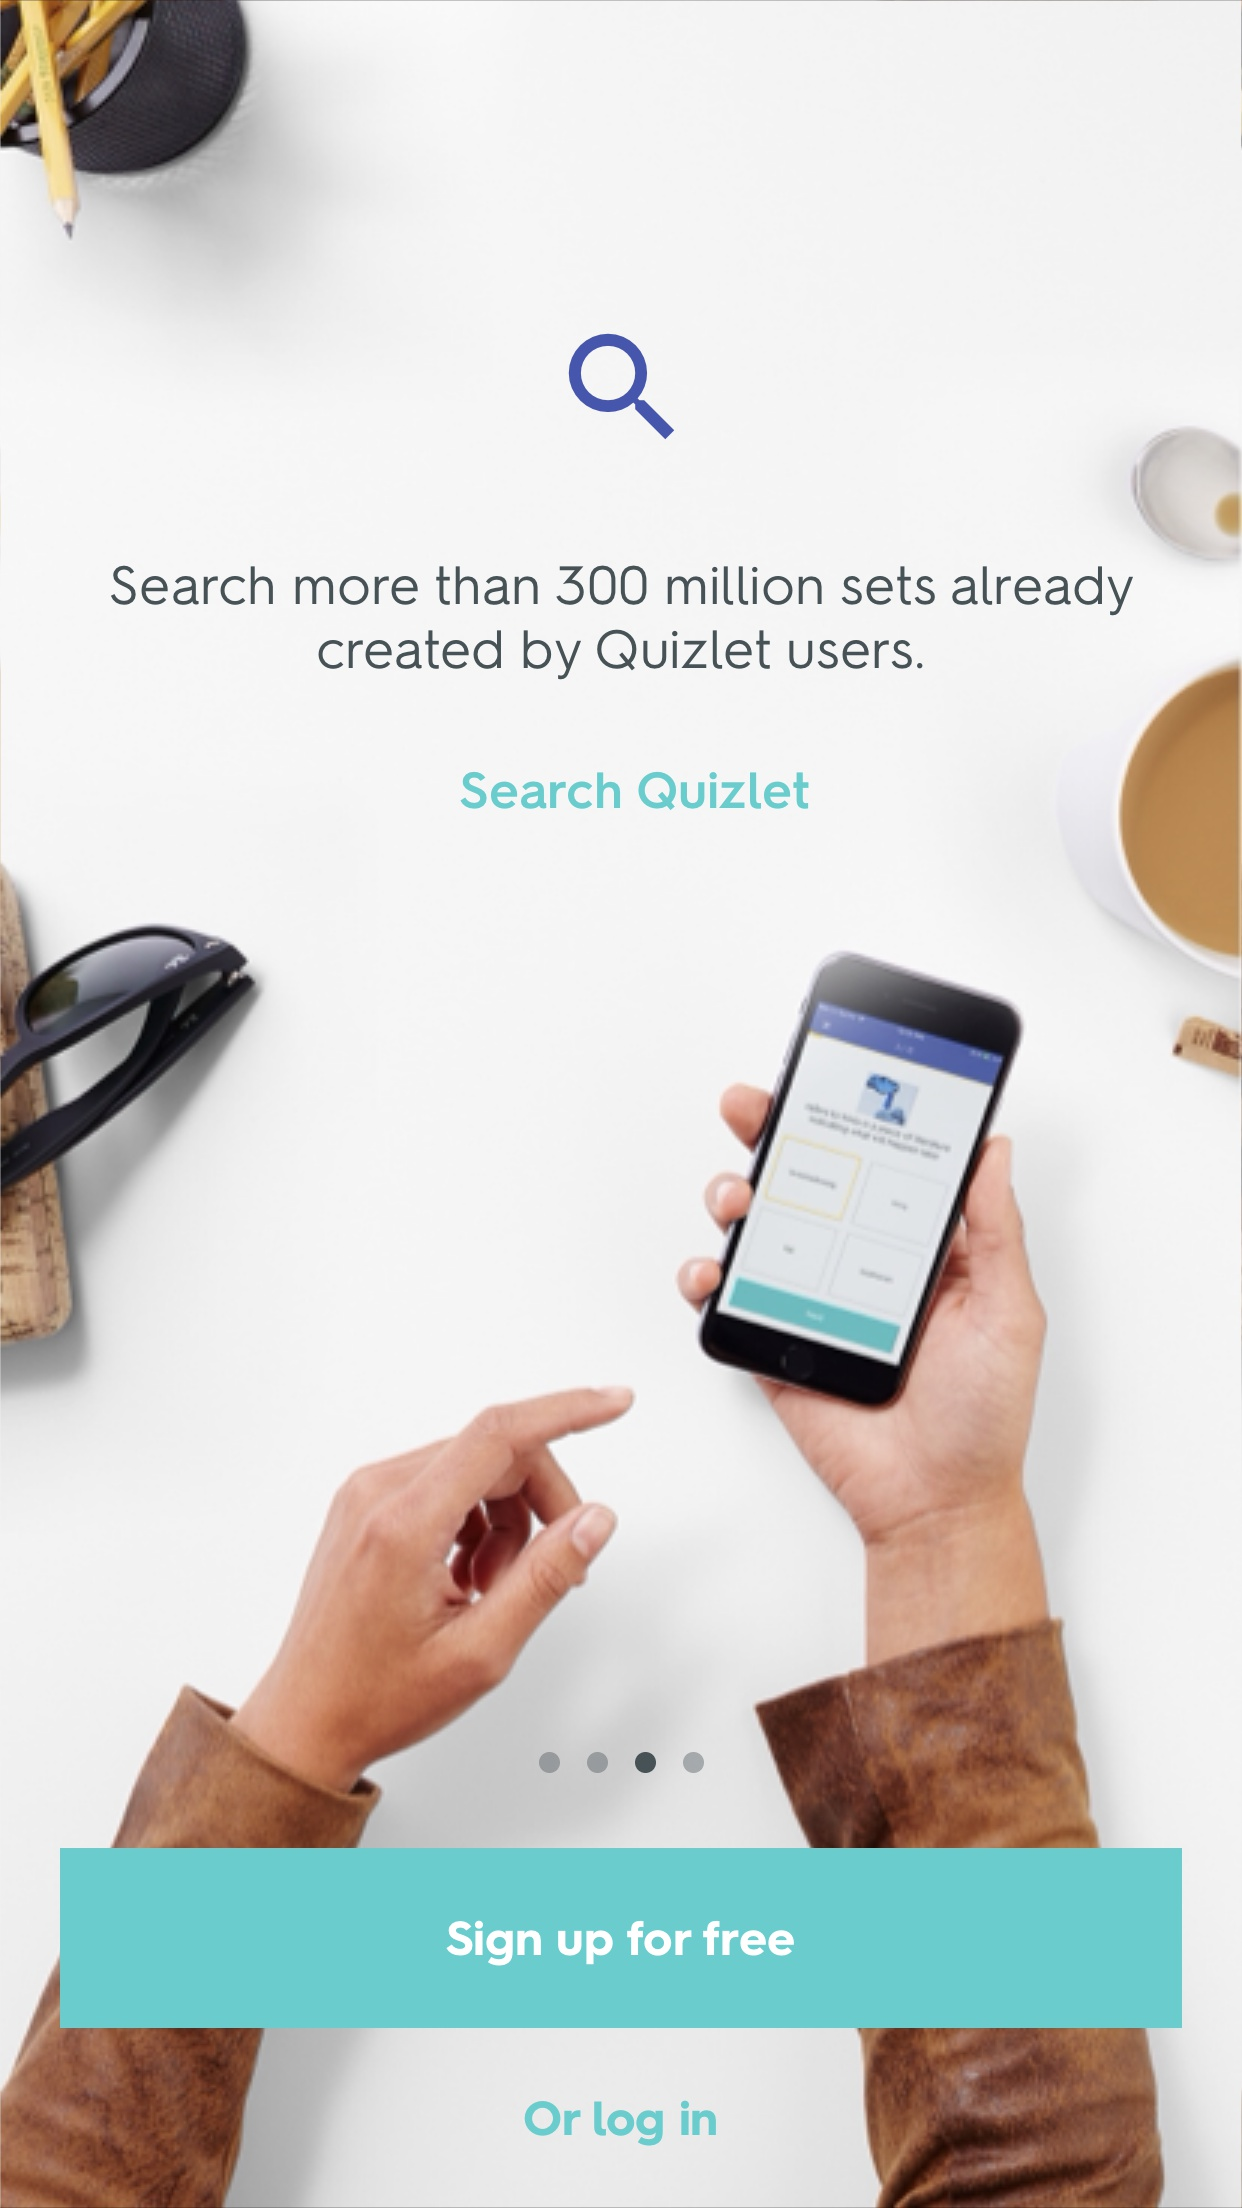BackgroundImage: (2, 2, 1242, 2208)
Icon: (569, 334, 675, 441)
PageIndicator: (538, 1752, 705, 1774)
Text: (112, 566, 1134, 681), (459, 772, 808, 811), (525, 2100, 717, 2147)
TextButton: (61, 1849, 1183, 2029)
